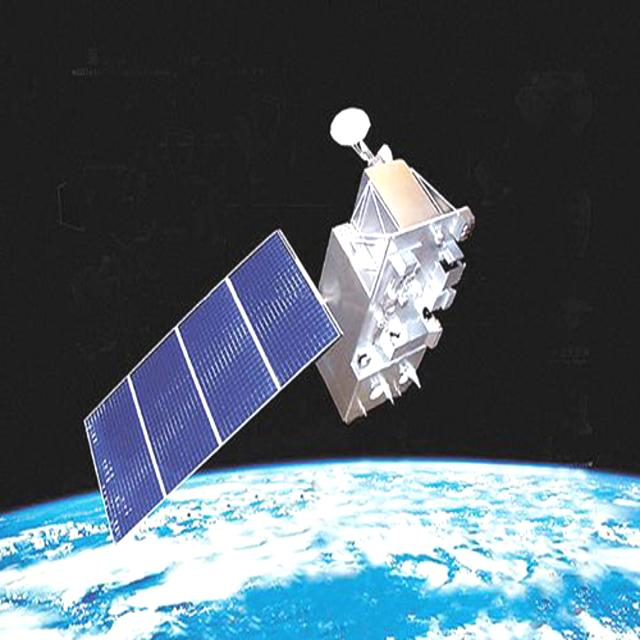medium_debris: (75, 97, 478, 555)
